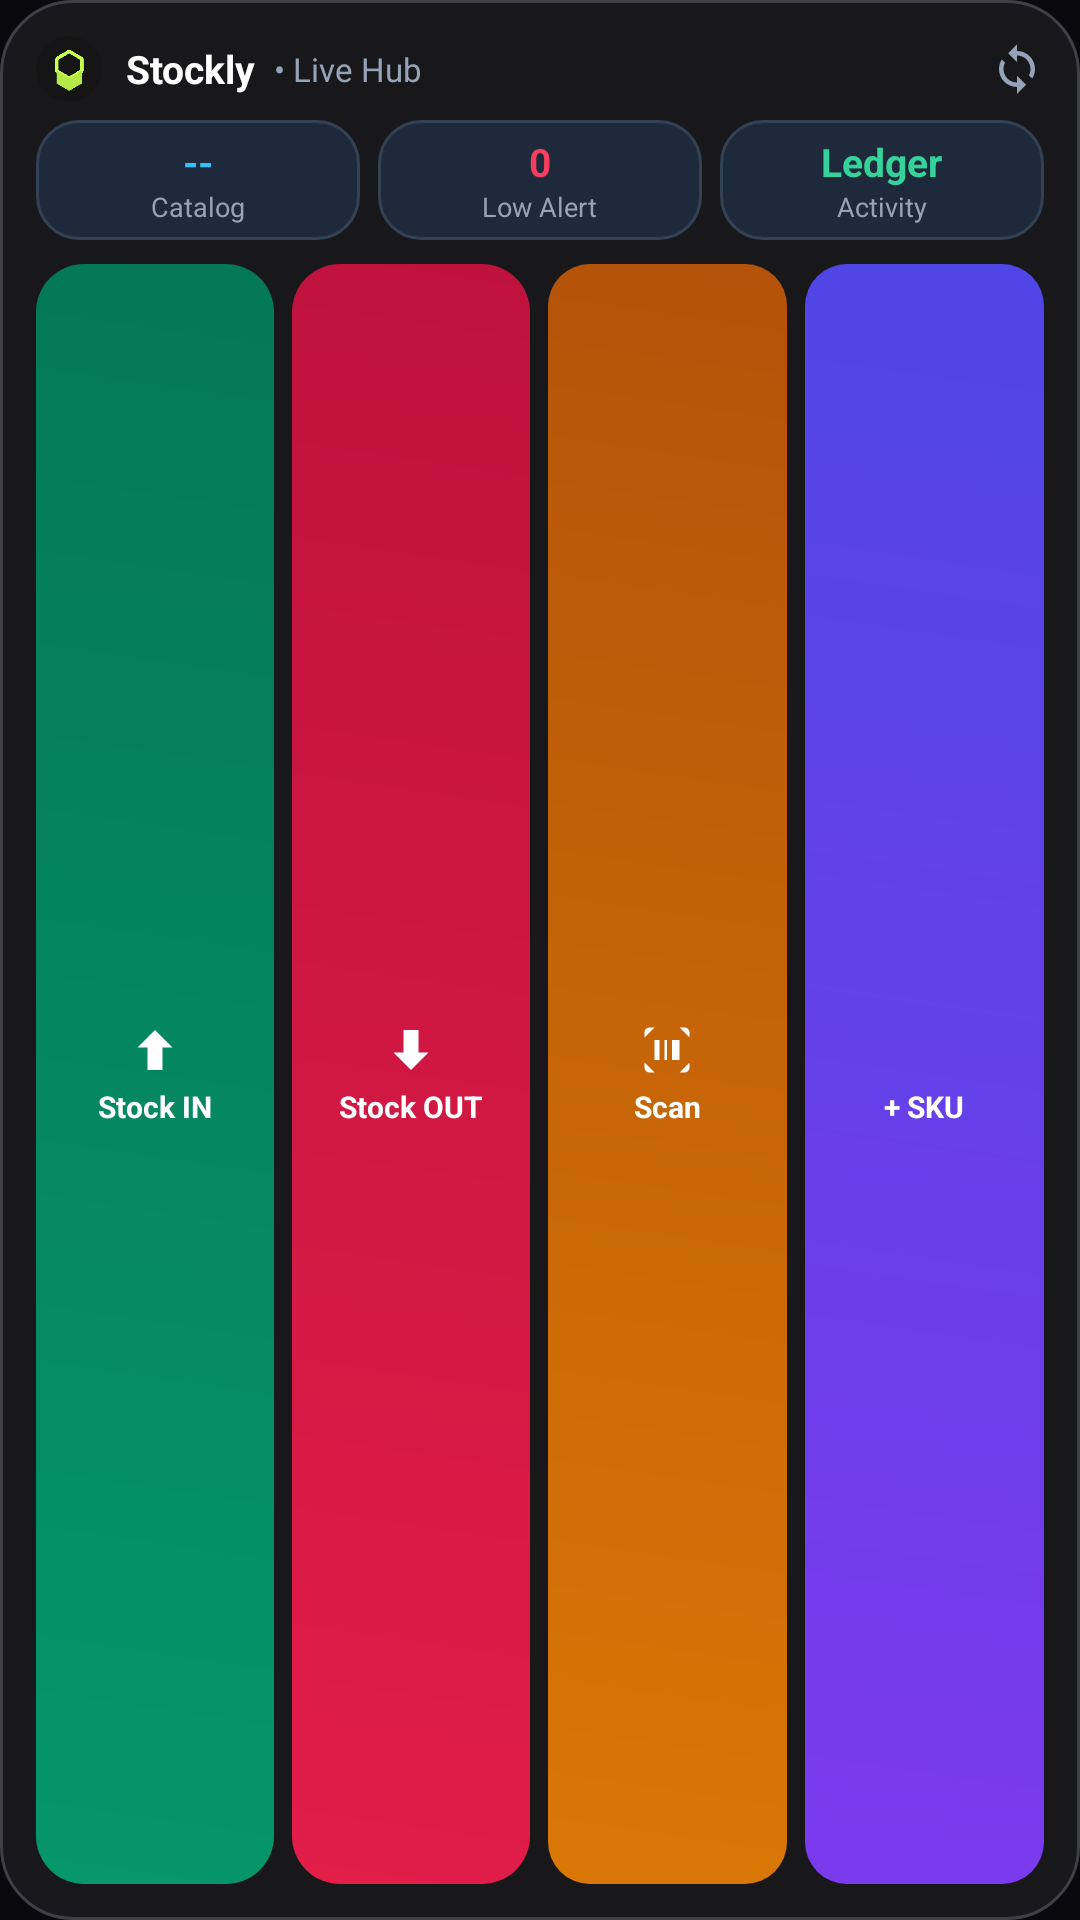

Where to tap for icons on this 1080x1920 app screen, as (x,y):
Sync: (1017,69)
